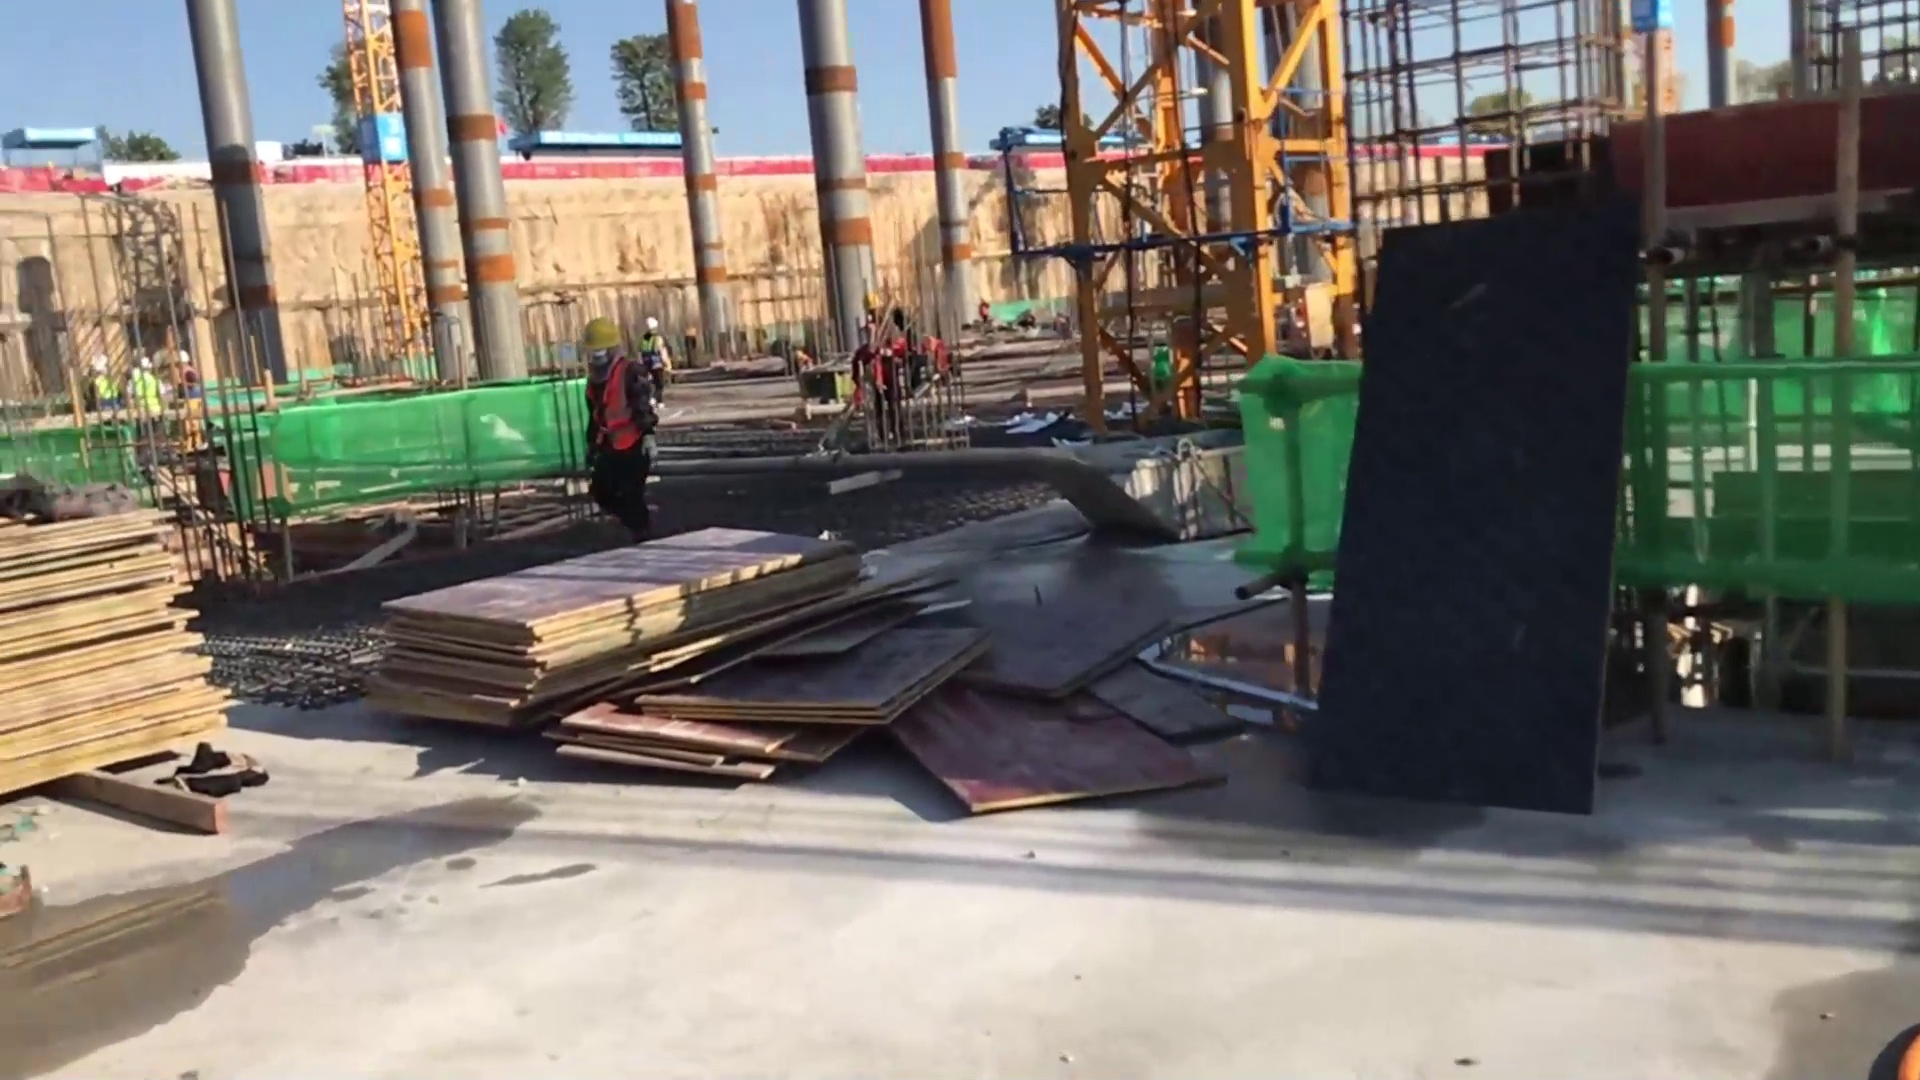helmet: (583, 319, 618, 345)
person: (573, 312, 654, 541), (859, 298, 901, 442), (120, 351, 155, 438), (640, 318, 671, 410), (166, 345, 198, 424), (81, 351, 109, 412)
vest: (586, 366, 641, 457)
